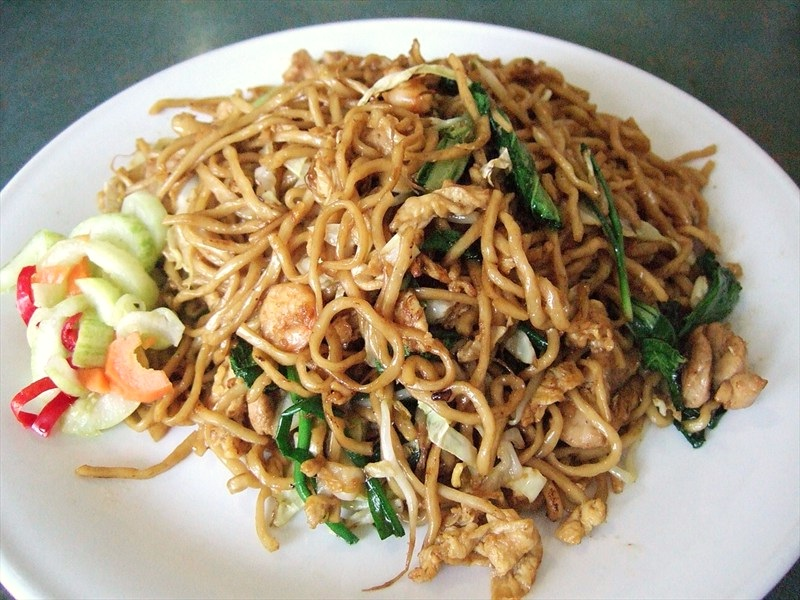Mie Goreng: (147, 79, 693, 501)
